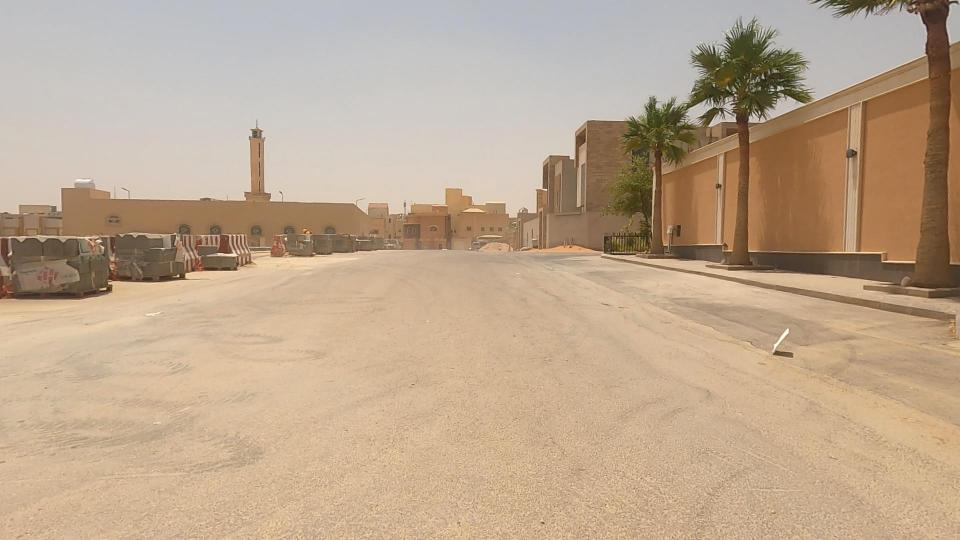CONSTRUCTION_ROAD: (9, 182, 352, 312), (232, 181, 445, 294), (0, 181, 154, 320)
GARBAGE: (722, 302, 828, 383)
SAND_ON_ROAD: (443, 218, 548, 269), (518, 225, 623, 273)
